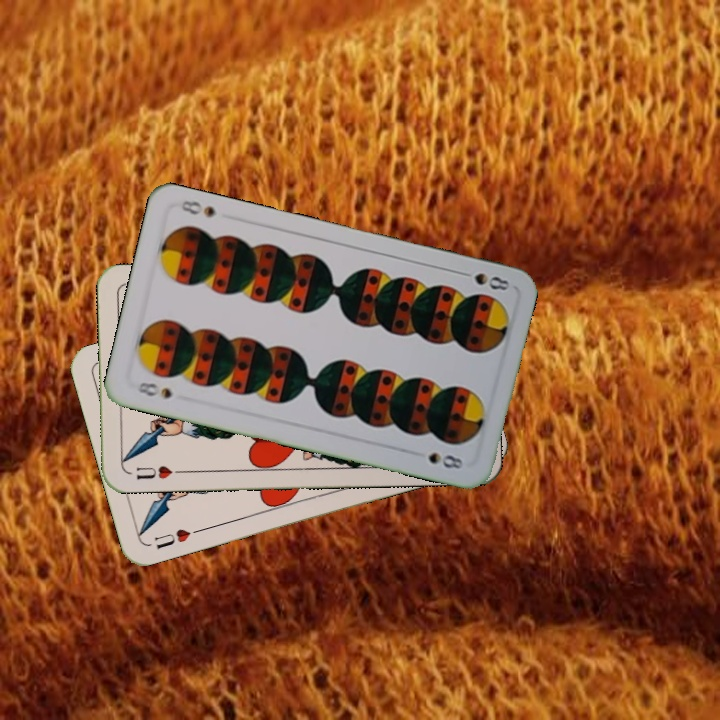HU: (150, 524, 204, 552), (132, 461, 185, 482)
S8: (454, 267, 513, 293), (132, 378, 174, 401)
